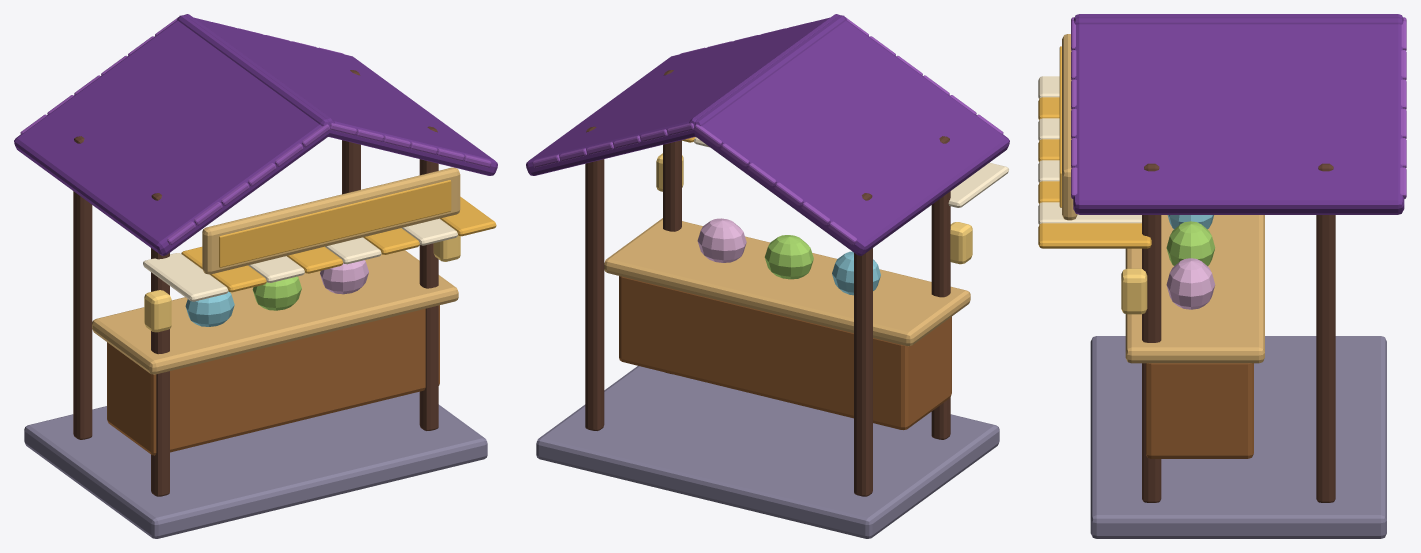
File: Pavilion_Pets.glb
The picture shows the model from 3 angles, left to right: view 1: azimuth 30°, elevation 25°; view 2: azimuth 150°, elevation 25°; view 3: azimuth 270°, elevation 25°; orthographic projection. The views are drawn at different scales.
Visible parts, largest first — view 1: Roof.004, StoneBase.002, Counter.002, CounterTop.002, Roof.005, SignInset.002, Sign.002, Post.009, Post.010, Post.008, AwningStripe.016, Pet (+12 smaller); view 2: StoneBase.002, Roof.004, Counter.002, CounterTop.002, Roof.005, Post.011, Post.009, Post.008, Post.010, Pet.002, Pet.001, AwningStripe.016 (+2 smaller); view 3: Roof.005, StoneBase.002, CounterTop.002, Counter.002, Post.011, Post.010, Roof.004, AwningStripe.023, Pet.002, Sign.002, Pet.001, Lantern.005 (+9 smaller).
Boxes of the visible parts, left/top/right/bottom form: Roof.004: left=14, top=14, right=334, bottom=255; StoneBase.002: left=24, top=391, right=487, bottom=538; Counter.002: left=107, top=305, right=439, bottom=455; CounterTop.002: left=92, top=250, right=458, bottom=374; Roof.005: left=177, top=15, right=497, bottom=175; SignInset.002: left=219, top=180, right=451, bottom=267; Sign.002: left=202, top=167, right=460, bottom=274; Post.009: left=73, top=136, right=92, bottom=439; Post.010: left=419, top=126, right=438, bottom=430; Post.008: left=151, top=193, right=169, bottom=496; AwningStripe.016: left=143, top=253, right=228, bottom=301; Pet: left=185, top=291, right=234, bottom=326; StoneBase.002: left=536, top=366, right=999, bottom=538; Roof.004: left=689, top=14, right=1009, bottom=255; Counter.002: left=619, top=276, right=951, bottom=430; CounterTop.002: left=604, top=218, right=970, bottom=346; Roof.005: left=526, top=15, right=846, bottom=175; Post.011: left=585, top=126, right=604, bottom=430; Post.009: left=854, top=193, right=872, bottom=496; Post.008: left=931, top=136, right=950, bottom=439; Post.010: left=663, top=70, right=681, bottom=373; Pet.002: left=697, top=218, right=746, bottom=262; Pet.001: left=764, top=235, right=813, bottom=279; AwningStripe.016: left=948, top=162, right=1008, bottom=207; Roof.005: left=1073, top=14, right=1404, bottom=214; StoneBase.002: left=1090, top=336, right=1386, bottom=538; CounterTop.002: left=1125, top=215, right=1264, bottom=363; Counter.002: left=1146, top=363, right=1253, bottom=458; Post.011: left=1316, top=163, right=1335, bottom=502; Post.010: left=1142, top=163, right=1161, bottom=502; Roof.004: left=1074, top=16, right=1403, bottom=24; AwningStripe.023: left=1038, top=223, right=1151, bottom=248; Pet.002: left=1166, top=258, right=1215, bottom=309; Sign.002: left=1062, top=34, right=1077, bottom=220; Pet.001: left=1166, top=221, right=1215, bottom=266; Lantern.005: left=1121, top=268, right=1147, bottom=314.
Bounding box in the file's own units: 5.07 × 5.49 × 4.23.
